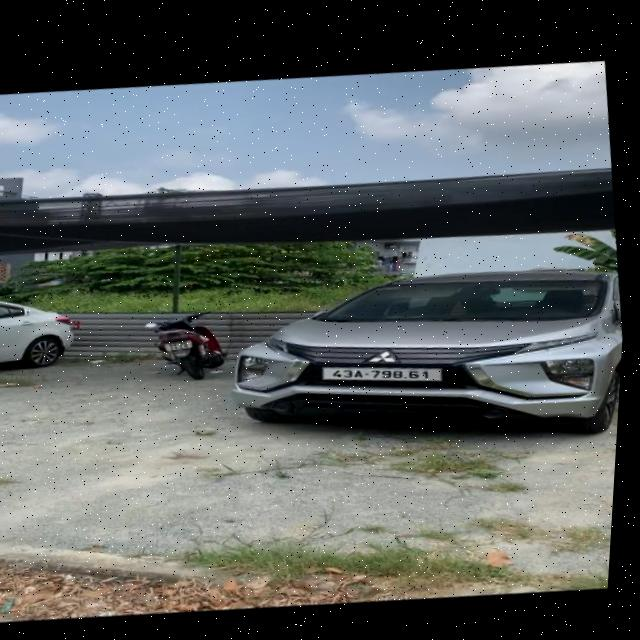car: (218, 230, 627, 472), (0, 273, 83, 383)
motorcycle: (148, 315, 228, 387)
plate: (315, 347, 449, 401), (162, 333, 199, 359)
